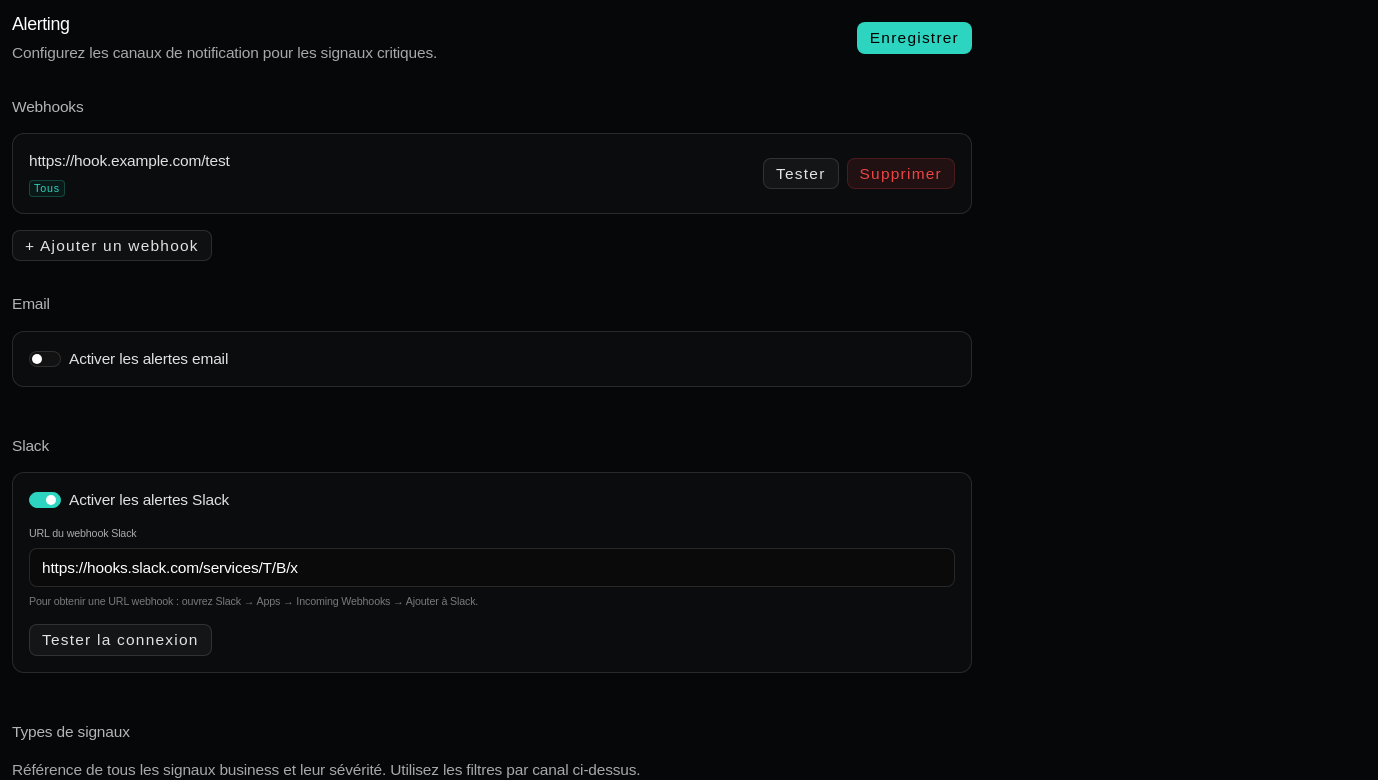
Test case: AlertingSettings — test signal › appelle l'endpoint test et affiche Connecté
Expected: the text "https://hook.example.com/test" is shown, [29,152,230,169]
Le premier bouton Tester correspond au webhook (avant le Slack)
Click the button "Tester": click(801, 173) [763,158,839,189]
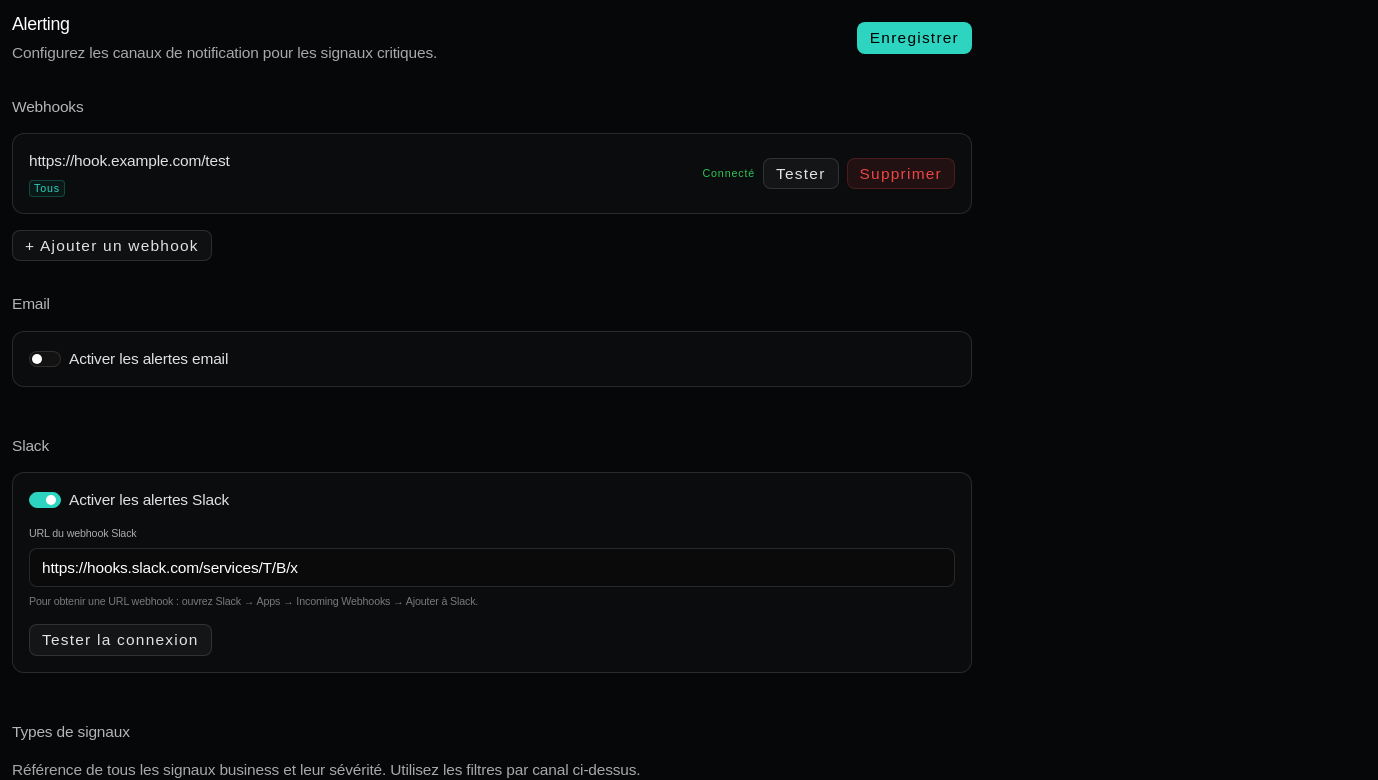
Expected: the text "Connecté" is shown, [702,167,755,180]
